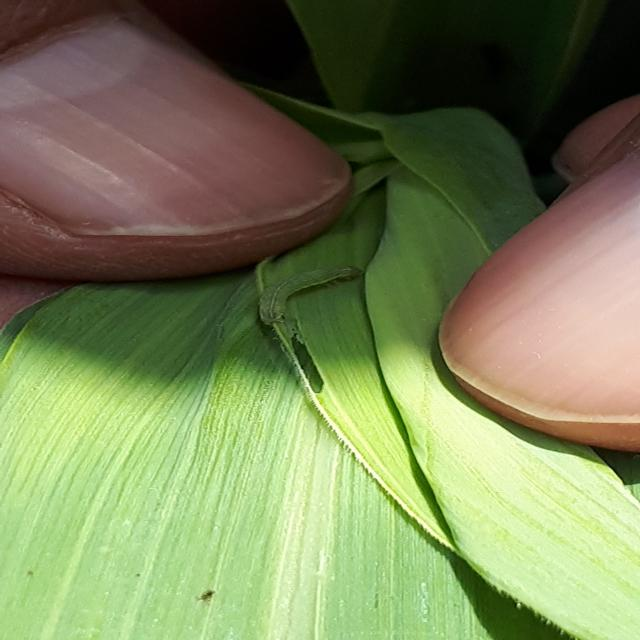armyworm: (250, 261, 389, 330)
